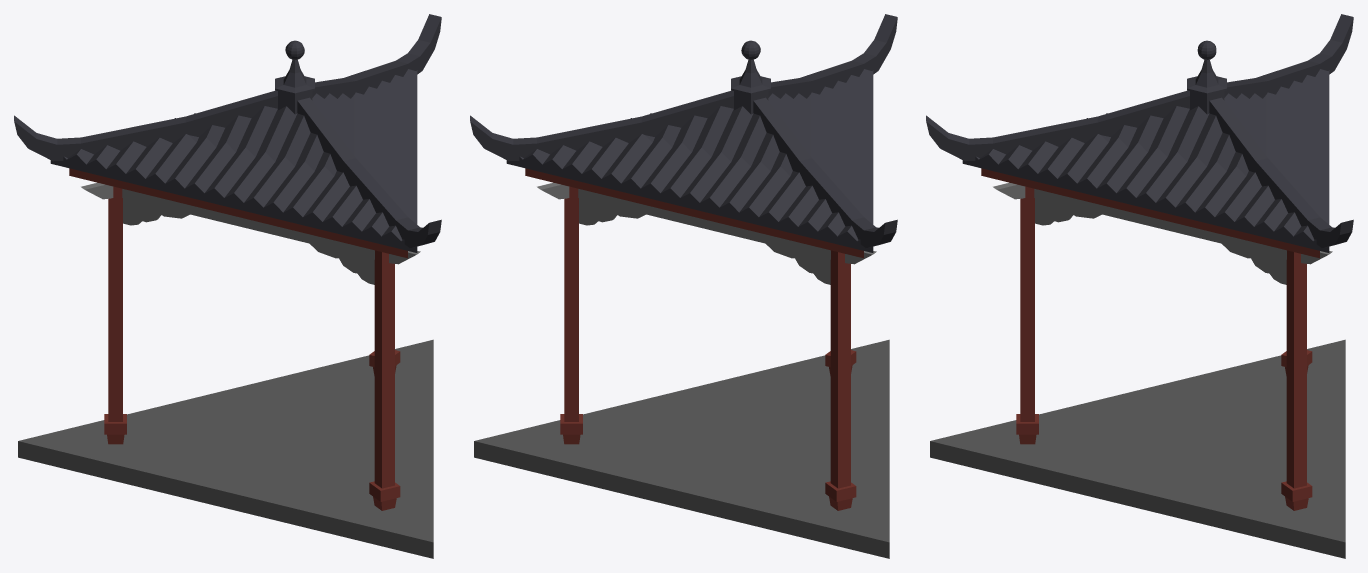
The model's file is 三角亭.fbx.
The picture shows the model from 3 angles, left to right: view 1: azimuth 30°, elevation 25°; view 2: azimuth 150°, elevation 25°; view 3: azimuth 270°, elevation 25°; orthographic projection.
Visible parts, largest first — view 1: sanjiaoting; view 2: sanjiaoting; view 3: sanjiaoting.
Boxes of the visible parts, x1,y1,x2,y2 form: sanjiaoting: [14, 14, 441, 558]; sanjiaoting: [470, 14, 897, 558]; sanjiaoting: [926, 14, 1353, 558].
Size of the model in its own units: 498 by 463 by 432.
